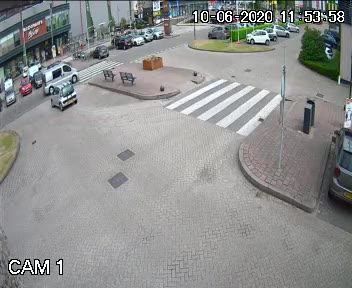car: (34, 65, 85, 93), (49, 83, 82, 118)
